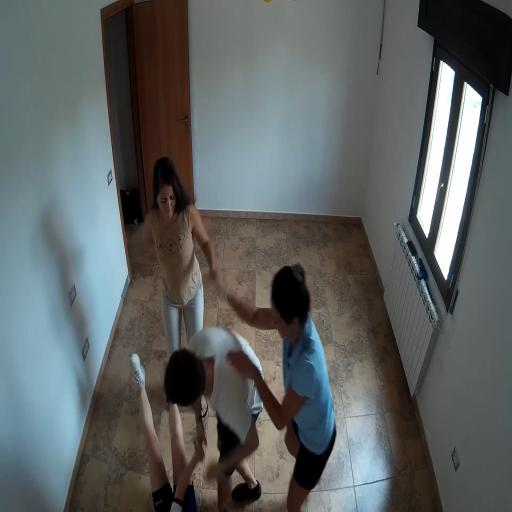violencia: (158, 246, 344, 512), (119, 316, 269, 512)
